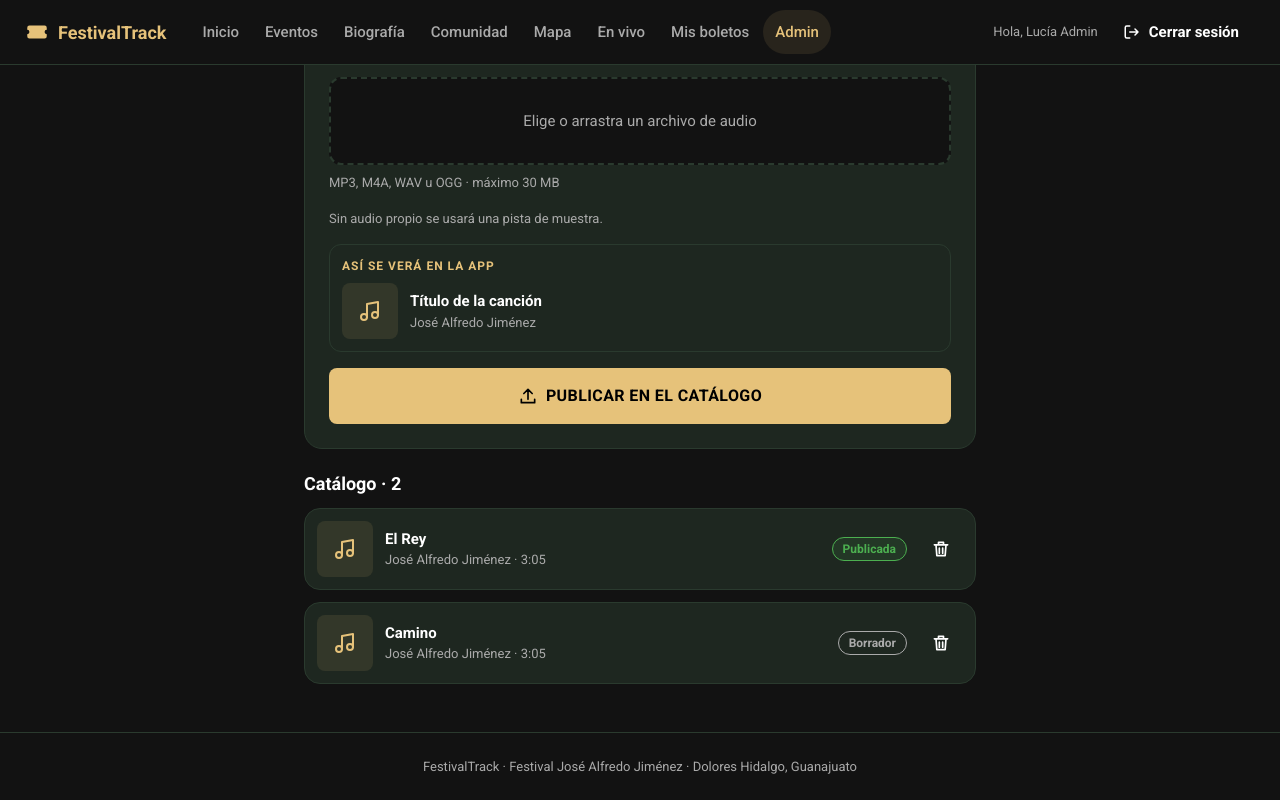
Scenario: canciones (/admin/canciones) › lista el catálogo con marcador de portada y elimina tras confirmar
(page scrolled)
expect the text "El Rey" is shown: met, box [385,530,426,548]
expect the text "Borrador" is shown: met, box [838,630,907,654]
Step 1. Click the button named "Eliminar El Rey" → (941, 548), box [919,526,963,570]
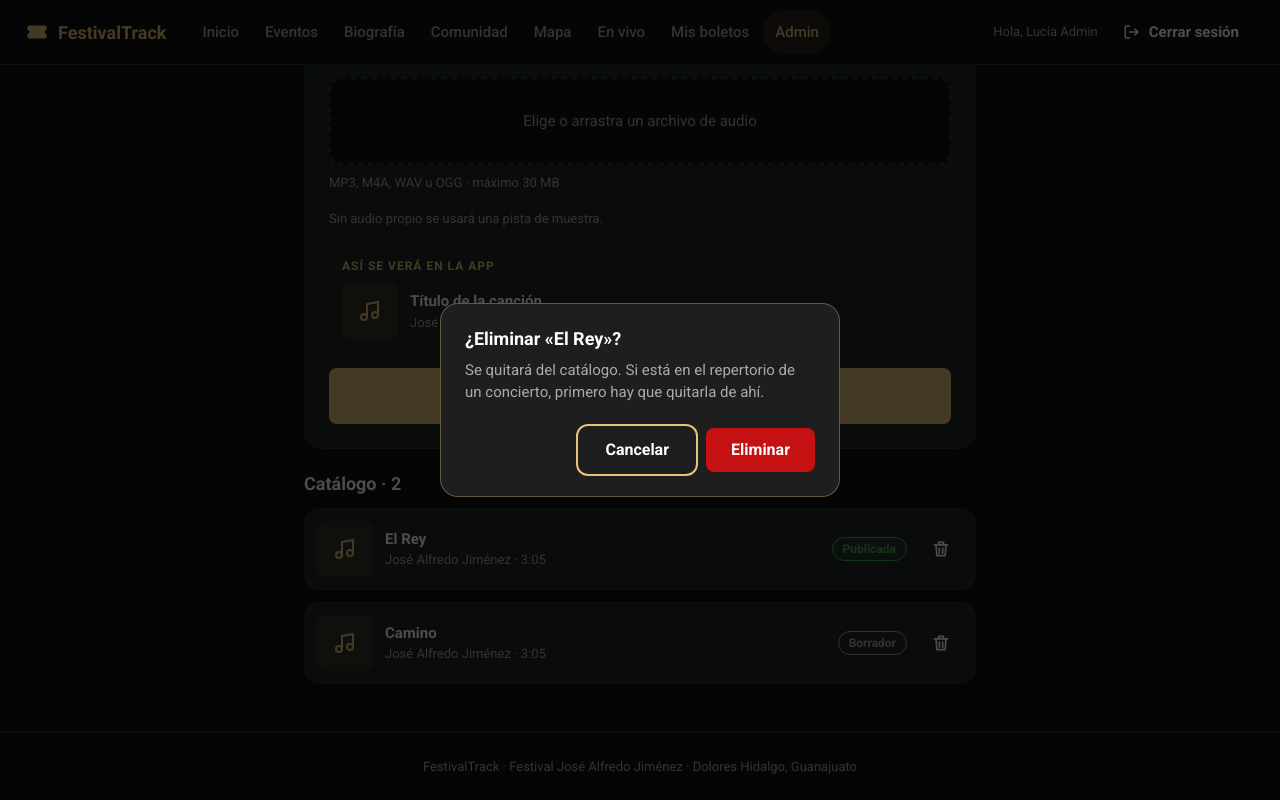
Step 2. Click the button "Eliminar" → (760, 450), box [706,428,815,472]
(page scrolled)
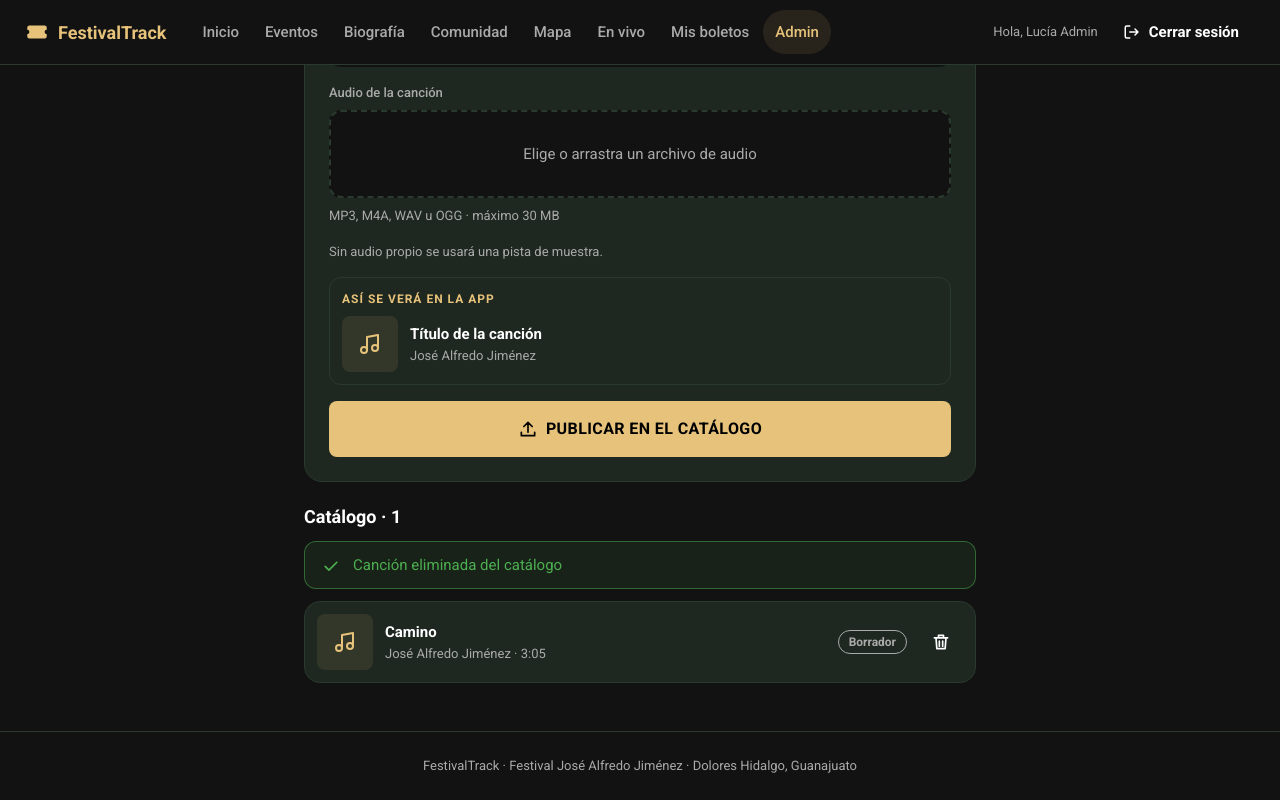
expect the text "Canción eliminada del catálogo" is shown: met, box [353,554,562,576]
